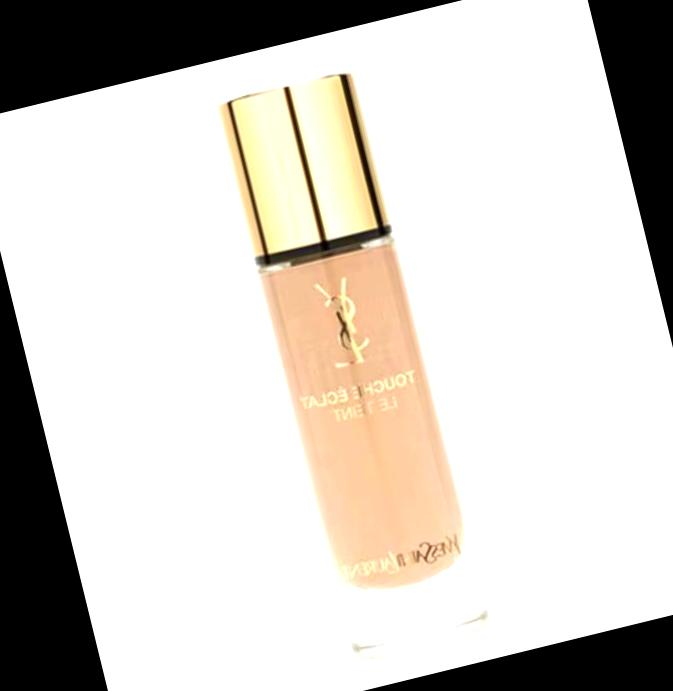cosmetic: (208, 64, 493, 666)
